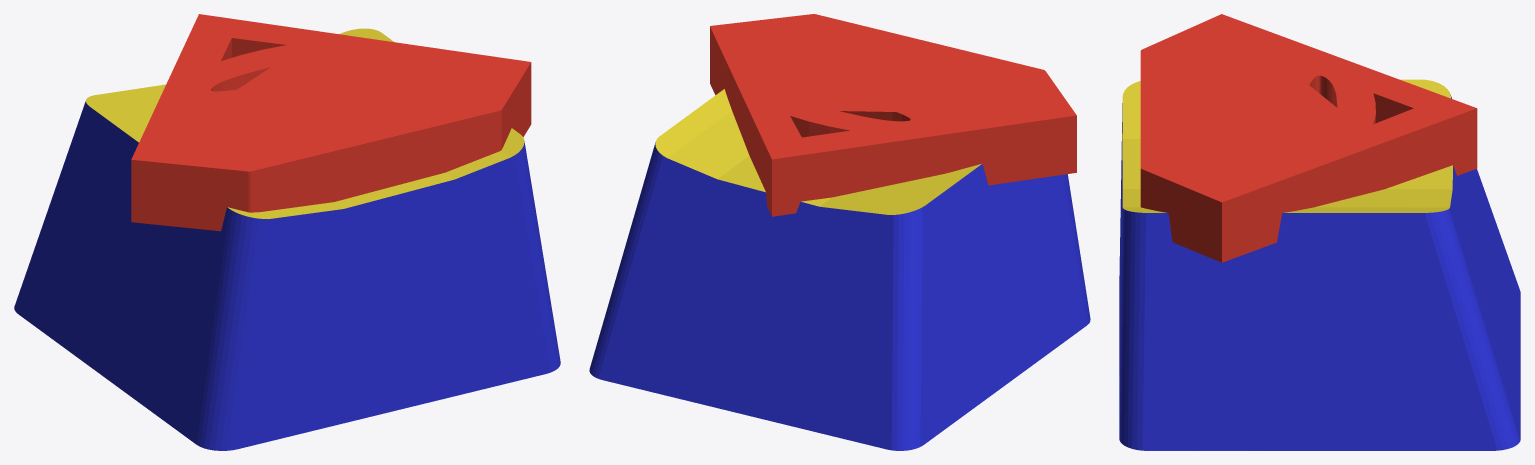
The model's file is SupermanKeycap.fbx.
3 renders of one model, left to right at view 1: azimuth 30°, elevation 25°; view 2: azimuth 150°, elevation 25°; view 3: azimuth 270°, elevation 25°, orthographic. The views are drawn at different scales.
Visible parts, largest first — view 1: SupermanKeyCap; view 2: SupermanKeyCap; view 3: SupermanKeyCap.
Part boxes in pixels (left/top/right/bottom): SupermanKeyCap: left=14, top=14, right=560, bottom=450; SupermanKeyCap: left=589, top=14, right=1090, bottom=450; SupermanKeyCap: left=1119, top=14, right=1520, bottom=450.
Bounding box in the file's own units: 1995 × 1256 × 1797.
